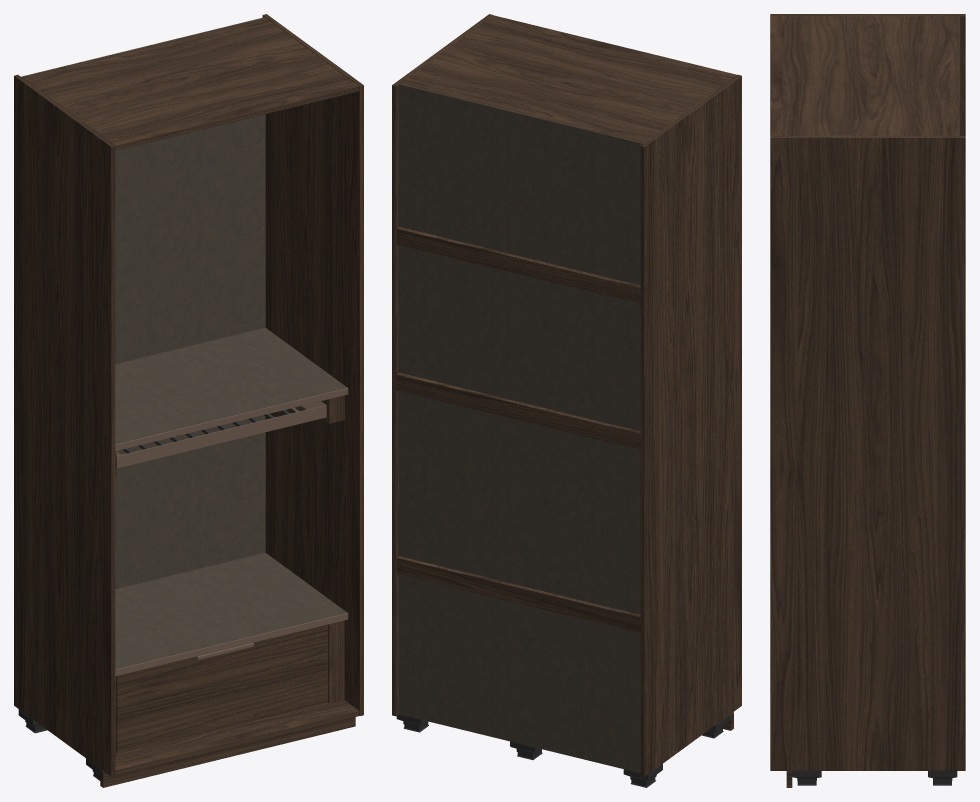
3 views of the same model, side by side, from view 1: azimuth 30°, elevation 25°; view 2: azimuth 150°, elevation 25°; view 3: azimuth 270°, elevation 25° (orthographic).
Parts seen in each view (by area): view 1: HK1001086, BONG_01; view 2: HK1001086; view 3: HK1001086.
Part boxes in pixels (left/top/right/bottom): HK1001086: left=14, top=14, right=363, bottom=787; BONG_01: left=115, top=388, right=348, bottom=676; HK1001086: left=392, top=14, right=741, bottom=787; HK1001086: left=770, top=14, right=965, bottom=787.
Bounding box in the file's own units: 0.9 × 2.2 × 0.6.
Materials: 8 (7 with a texture image).
